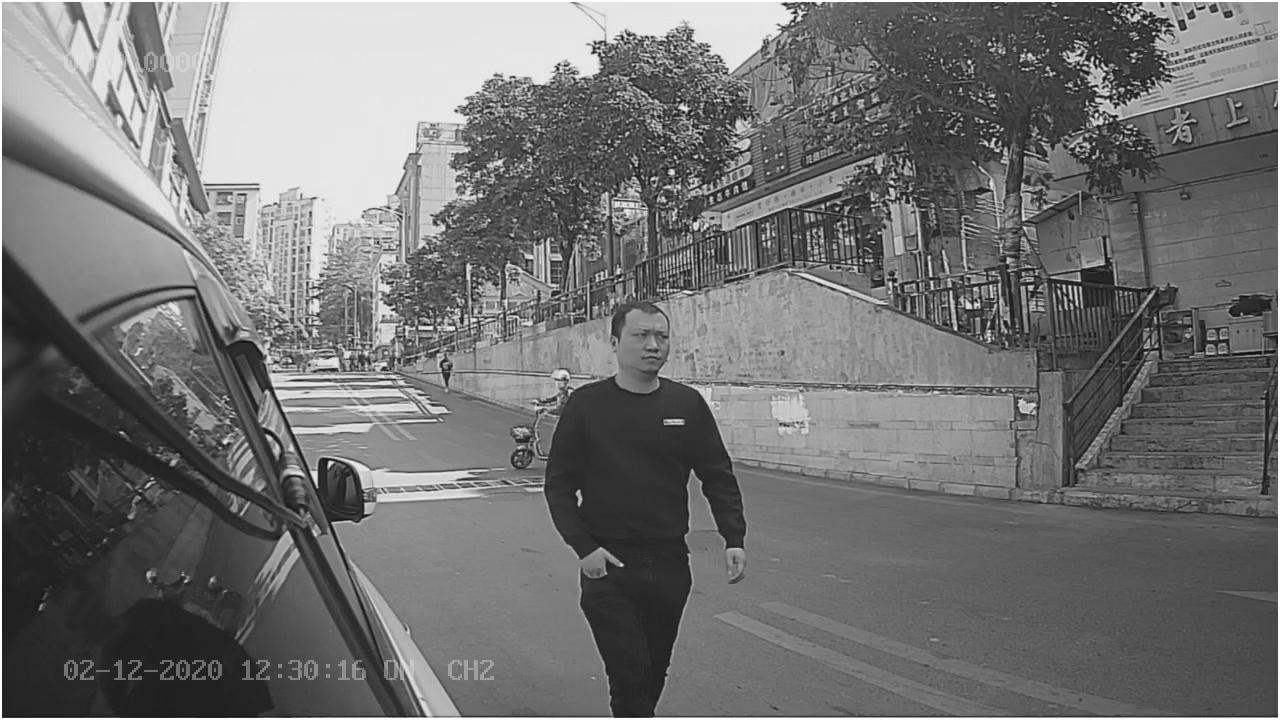person: (542, 301, 758, 588)
